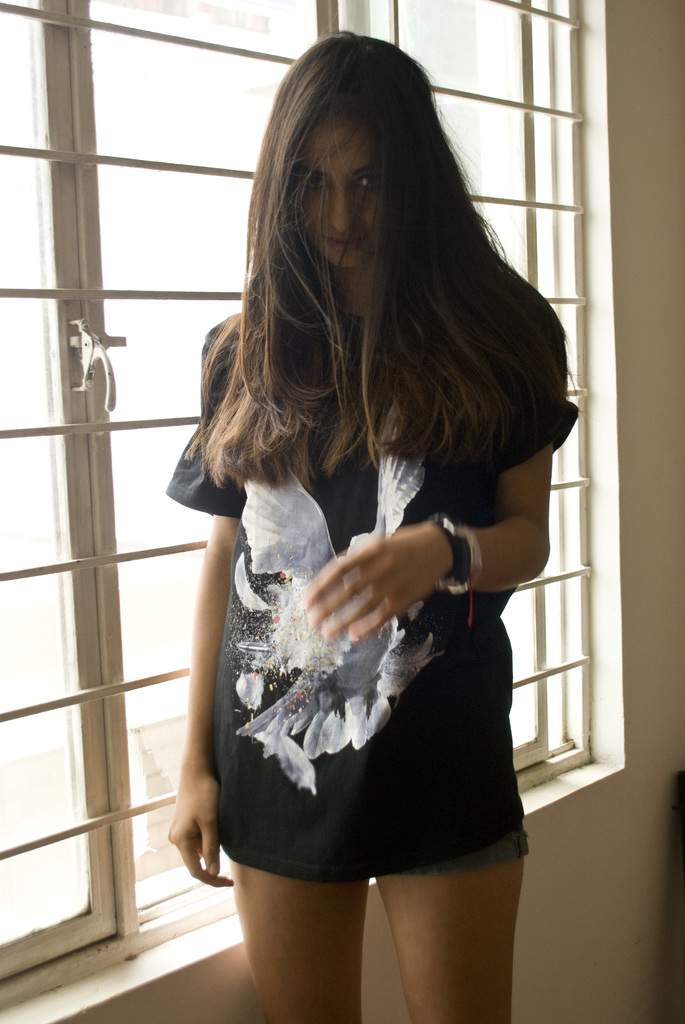Human_hand: (307, 518, 454, 645), (167, 760, 232, 886)
